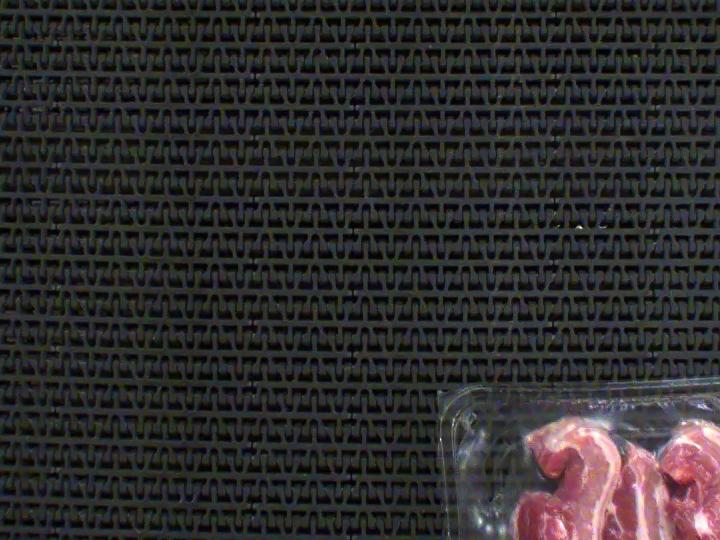unsealed: (437, 368, 720, 540)
